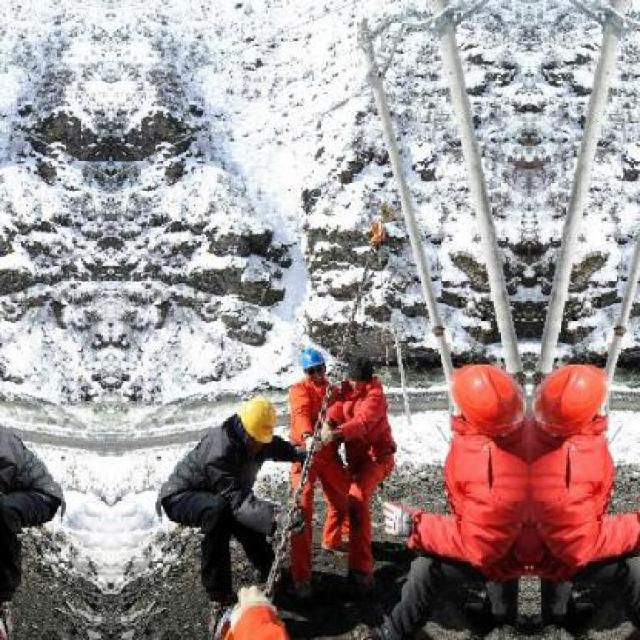helmet: (532, 354, 622, 446), (436, 354, 524, 446), (236, 390, 275, 450), (296, 346, 329, 383)
